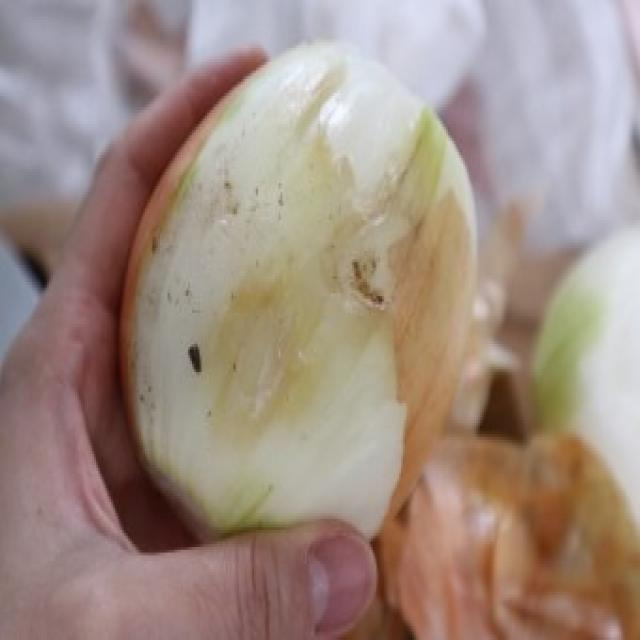onion: (117, 28, 500, 563)
